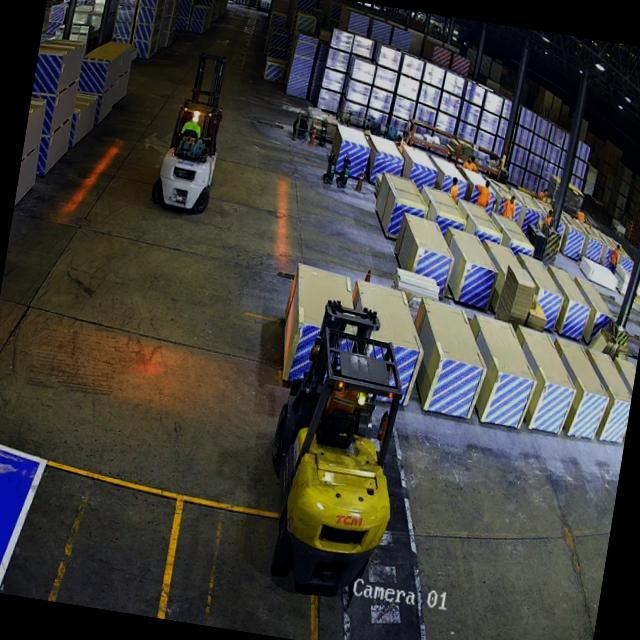driver: (328, 380, 360, 426), (180, 111, 205, 142)
forklift: (248, 297, 426, 612), (149, 44, 239, 222)
person: (475, 178, 493, 208), (502, 193, 516, 220), (447, 176, 460, 202)
